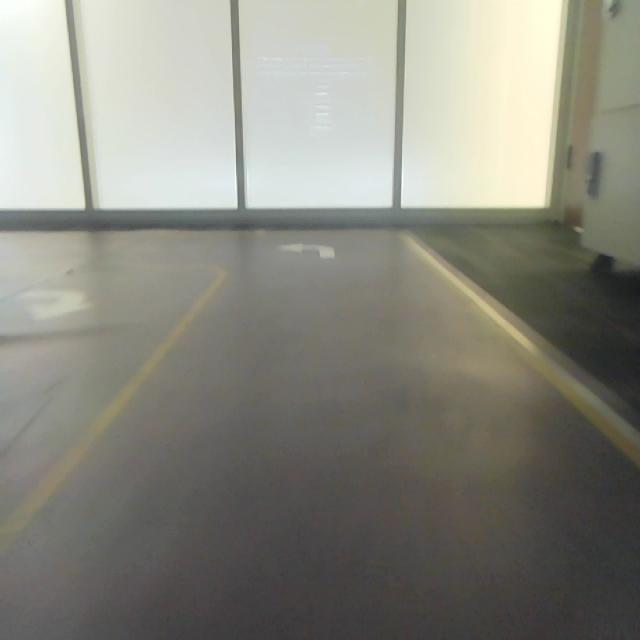left_lane: (0, 276, 225, 565)
right_lane: (408, 243, 640, 477)
